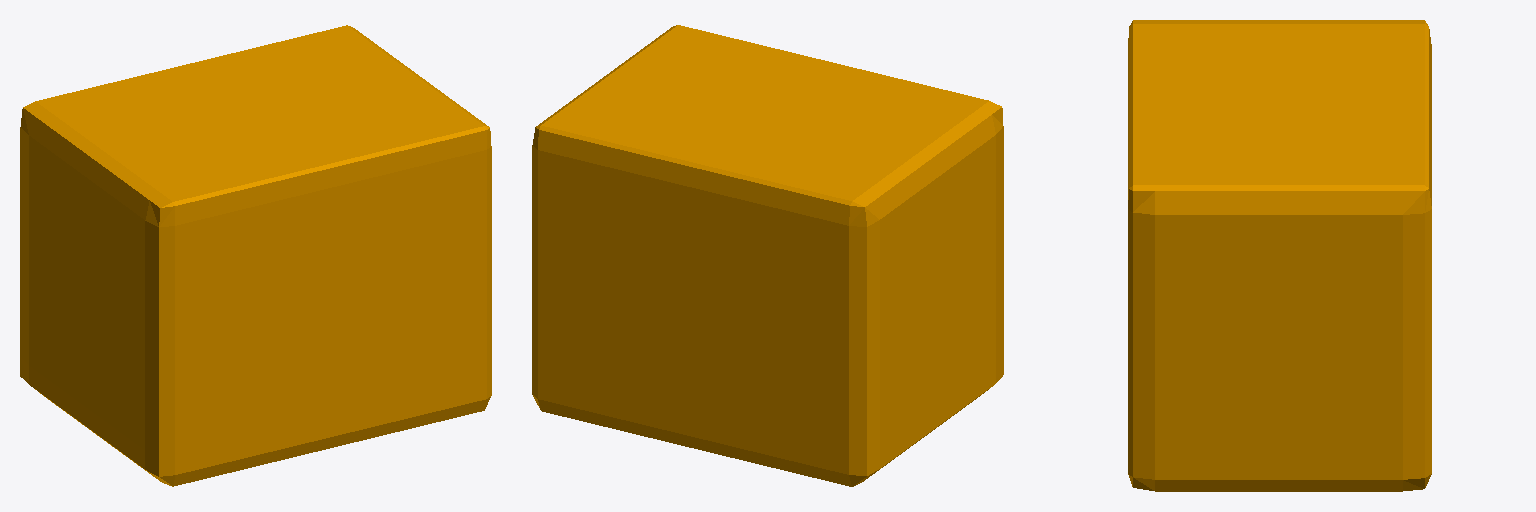
The robot description file, URDF, robot "cylinder_box_184":
<?xml version="1.0" encoding="utf-8"?>  <robot name="cylinder_box_184">   <link name="cylinder_box_184">     <visual>       <geometry>         <mesh filename="../meshes/box/box_184.stl" scale="1 1 1"/>       </geometry>     </visual>     <collision>       <geometry>         <mesh filename="../meshes/box/box_184.stl" scale="1 1 1"/>       </geometry>     </collision>     <inertial>        <origin         xyz="0 0 0"         rpy="0 0 0" />       <mass value="0.4678733864456793"/>       <origin rpy="0 0 0" xyz="0 0 0"/>       <inertia ixx="0.00039469079747325757" ixy="-7.436536635138083e-08" ixz="3.673631973207149e-07" iyy="0.0005498915016068488" iyz="1.2205182952616895e-07" izz="0.0005078621556472998"/>     </inertial>   </link>  </robot>

--- What the picture shows (computed from the rendered views, not written in the file) ---
3 views of the same robot in one strip: view 1: azimuth 30°, elevation 25°; view 2: azimuth 150°, elevation 25°; view 3: azimuth 270°, elevation 25° (orthographic).
Model cylinder_box_184 with 1 links and 0 joints (none), rooted at cylinder_box_184, posed every joint at zero.
Visible links, largest first — view 1: cylinder_box_184; view 2: cylinder_box_184; view 3: cylinder_box_184.
Boxes of the visible links, left/top/right/bottom form: cylinder_box_184: left=20, top=25, right=491, bottom=486; cylinder_box_184: left=532, top=25, right=1003, bottom=486; cylinder_box_184: left=1128, top=20, right=1431, bottom=491.
Size in the robot's own frame: 0.0929 by 0.0676 by 0.0753 metres.
Meshes: 1 distinct files referenced, 1 mesh visuals loaded (1 binary STL).
